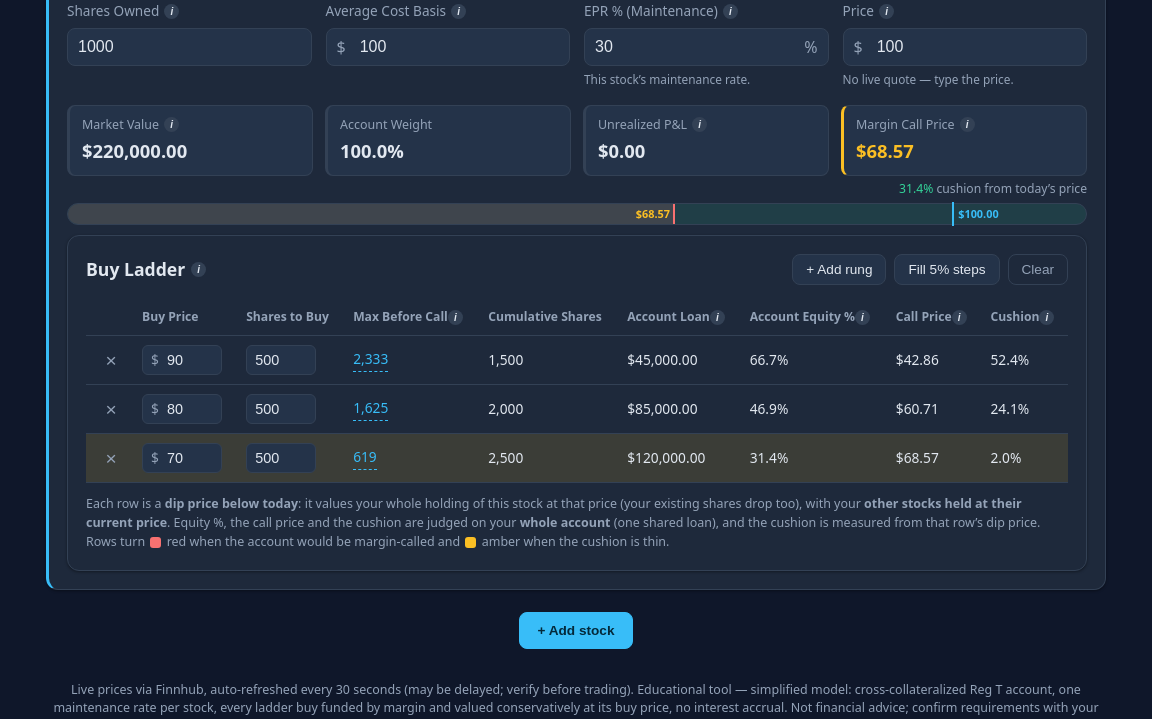
Scenario: App (integration smoke) › updates the account when a ladder share field changes (no leading zero)
(page scrolled)
Replace the text in the field named "Shares to buy" in the row of "1,500" with "01540": (281, 360) [247, 346, 315, 374]
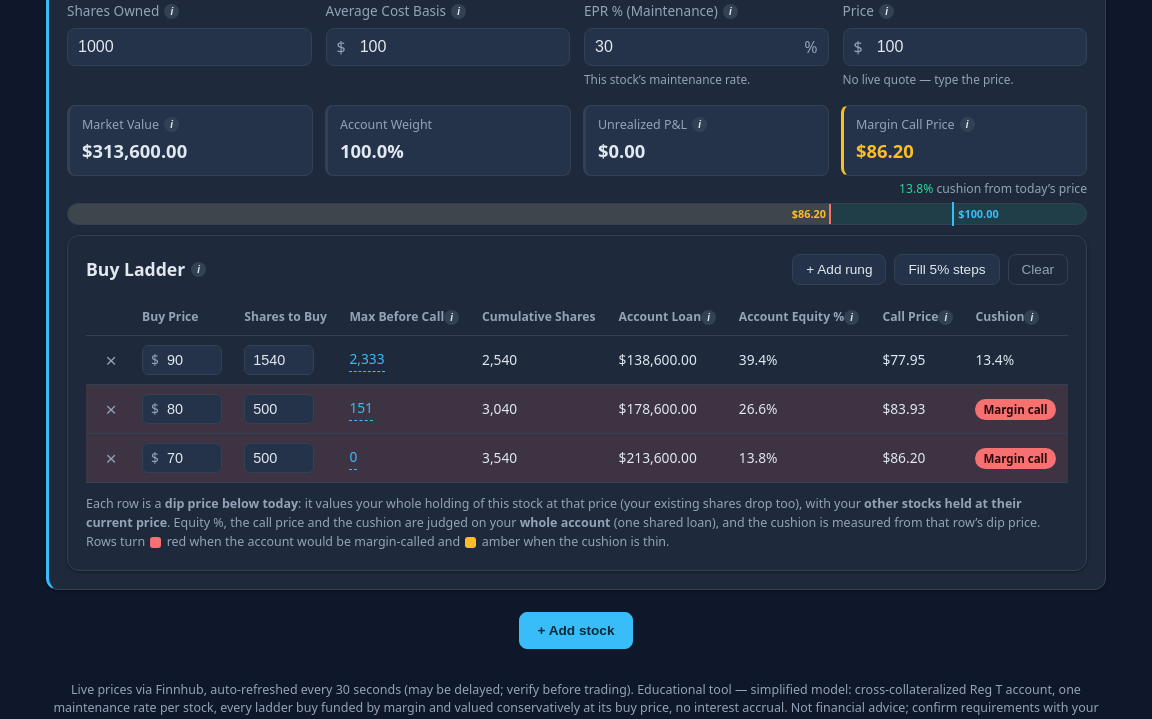
Expected: the field named "Shares to buy" in the row of "2,540" holds "1540", [245, 346, 313, 374]
